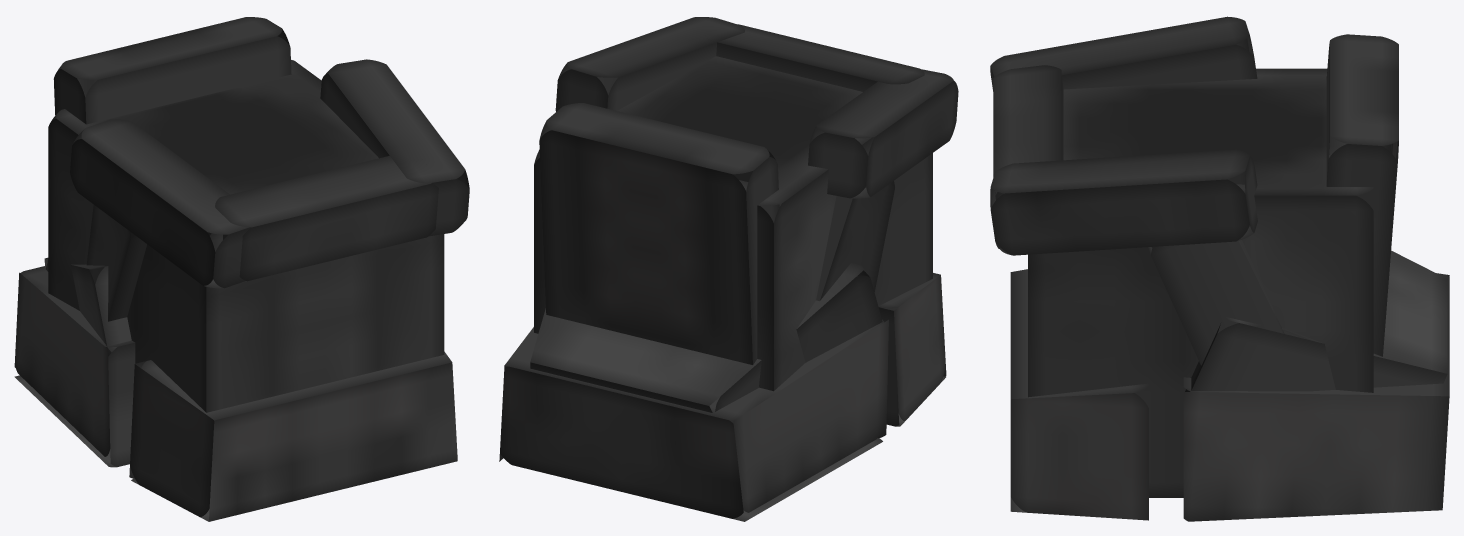
File: defender_b_l.obj
3 renders of one model, left to right at view 1: azimuth 30°, elevation 25°; view 2: azimuth 150°, elevation 25°; view 3: azimuth 270°, elevation 25°, orthographic. The views are drawn at different scales.
Parts seen in each view (by area): view 1: cube; view 2: cube; view 3: cube.
Part boxes in pixels (left/top/right/bottom): cube: left=14, top=17, right=469, bottom=521; cube: left=499, top=17, right=958, bottom=521; cube: left=990, top=16, right=1449, bottom=521.
Bounding box in the file's own units: 0.3519 × 0.3565 × 0.4171.
